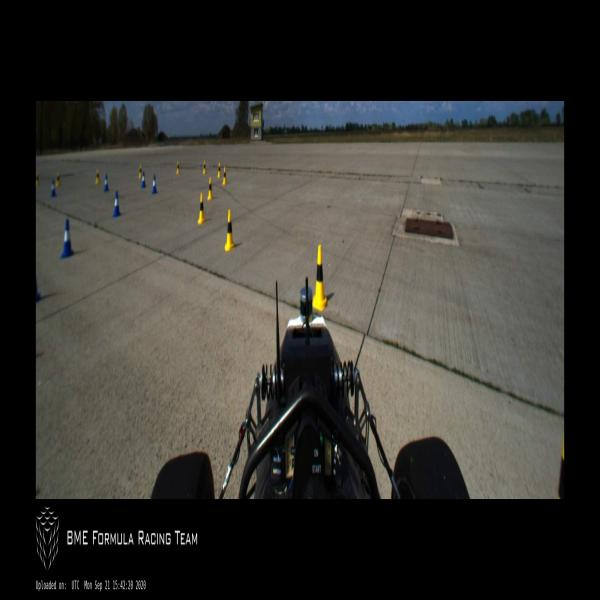blue_cone: (62, 219, 74, 258), (112, 190, 122, 216), (103, 174, 110, 192), (50, 179, 56, 197), (152, 174, 157, 193), (141, 172, 146, 188)
yellow_cone: (312, 244, 329, 312), (224, 208, 235, 252), (198, 193, 206, 225), (207, 176, 213, 200), (222, 166, 227, 185), (217, 161, 222, 179), (95, 170, 100, 186), (202, 160, 206, 176), (56, 172, 60, 188), (176, 160, 180, 175), (138, 164, 142, 179), (36, 172, 39, 186)
